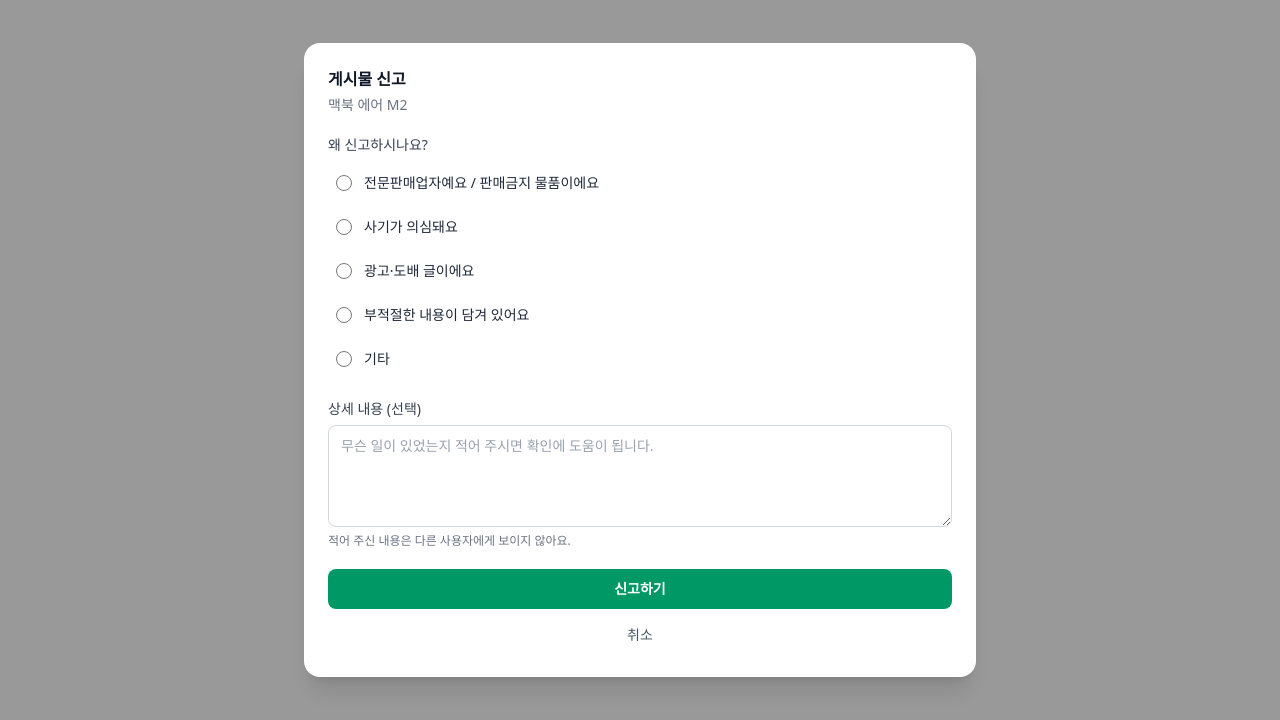
Test: ReportSheet › 보내고 나서 바로 닫지 않고 접수 안내를 띄운다
Click the radio button labelled "사기가 의심돼요" at (344, 227), box [336, 219, 352, 235]
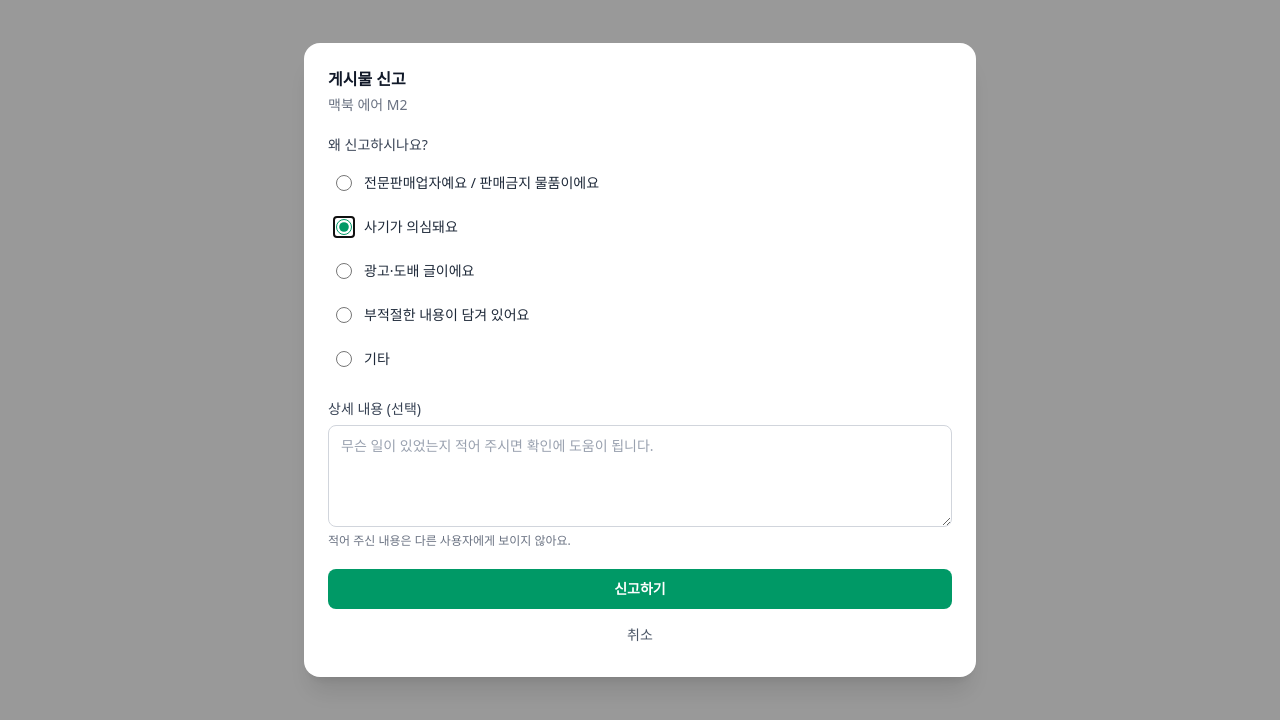
Click the button "신고하기" at (640, 589), box [328, 569, 952, 609]
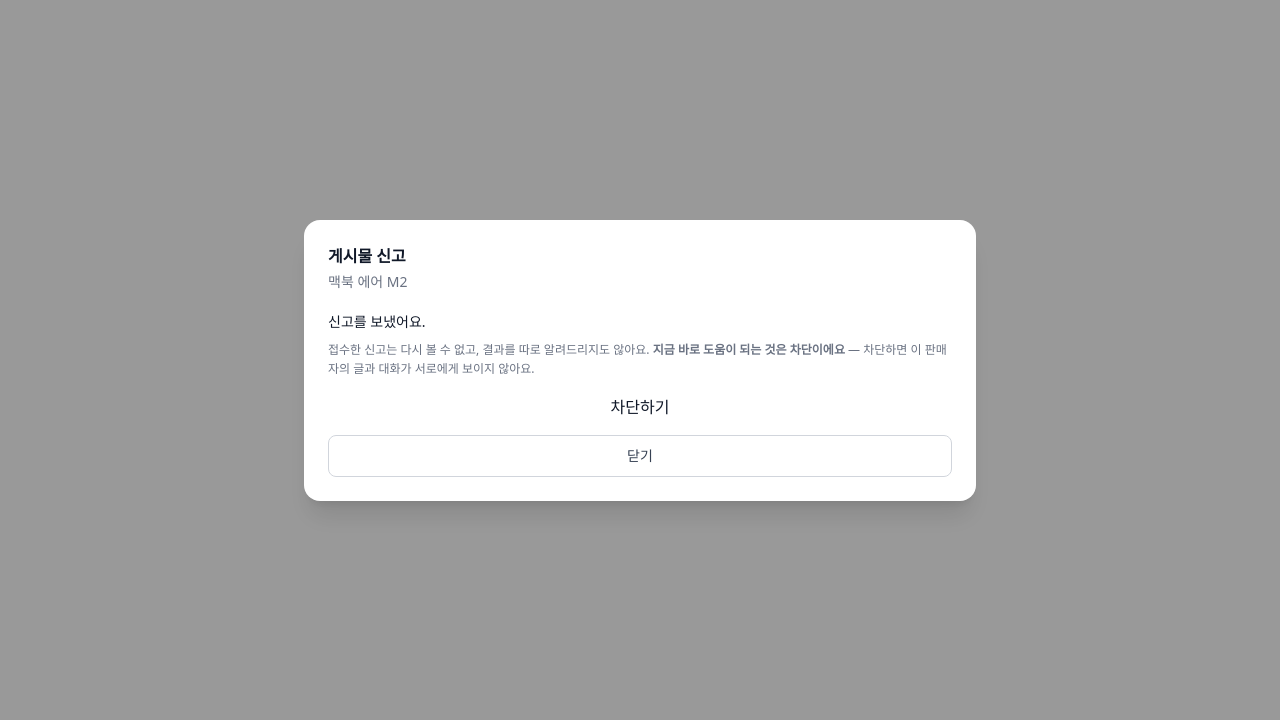
Expected: the text "신고를 보냈어요." is shown, [328, 312, 426, 330]
